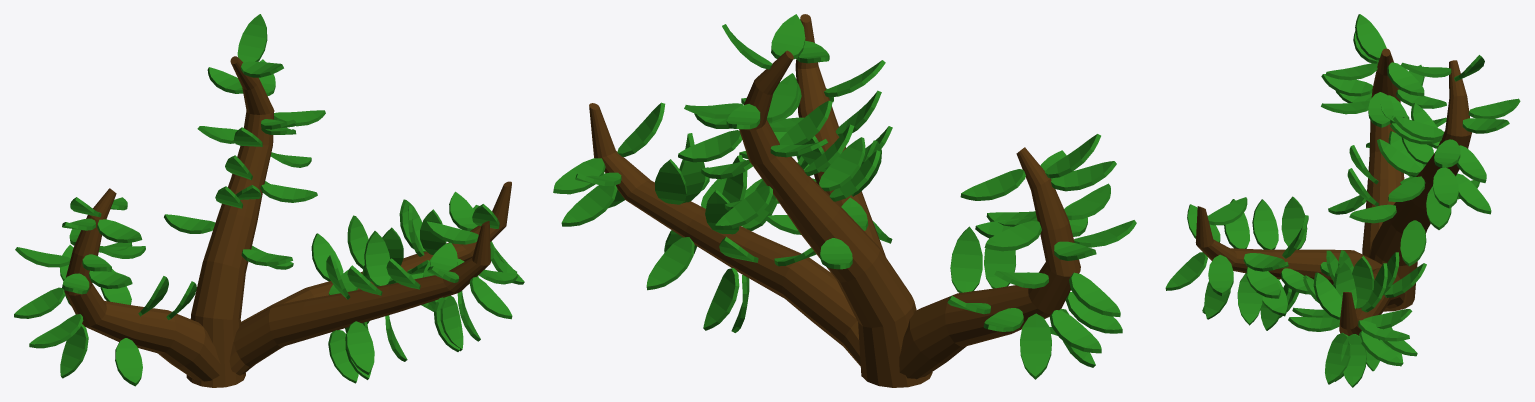
Rendered from Arbusto3Hoja1 1.fbx.
The picture shows the model from 3 angles, left to right: view 1: azimuth 30°, elevation 25°; view 2: azimuth 150°, elevation 25°; view 3: azimuth 270°, elevation 25°; orthographic projection. The views are drawn at different scales.
Parts seen in each view (by area): view 1: RamaArbusto3Hoja1; view 2: RamaArbusto3Hoja1; view 3: RamaArbusto3Hoja1.
Boxes of the visible parts, x1=… form: RamaArbusto3Hoja1: x1=14, y1=14, x2=524, y2=387; RamaArbusto3Hoja1: x1=553, y1=14, x2=1136, y2=387; RamaArbusto3Hoja1: x1=1165, y1=14, x2=1520, y2=387.
Bounding box in the file's own units: 184 × 114 × 125.
